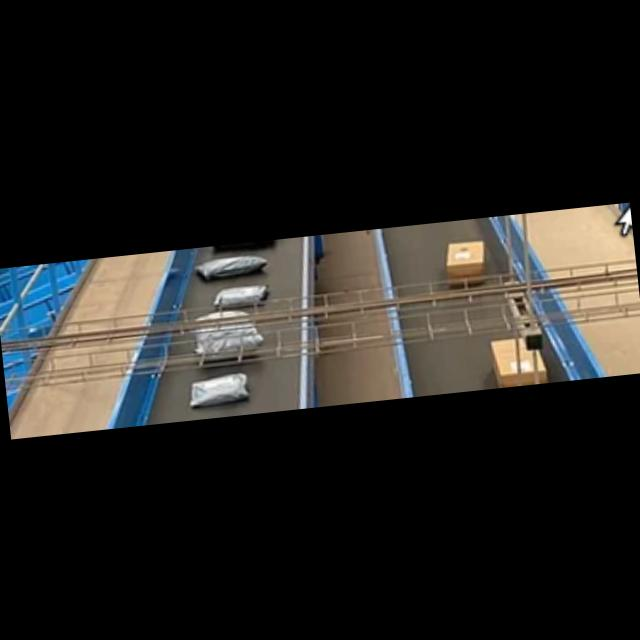box: (492, 335, 547, 388), (444, 239, 486, 286)
mailer: (192, 308, 264, 361), (186, 372, 247, 406), (193, 252, 264, 280), (212, 284, 270, 308)
